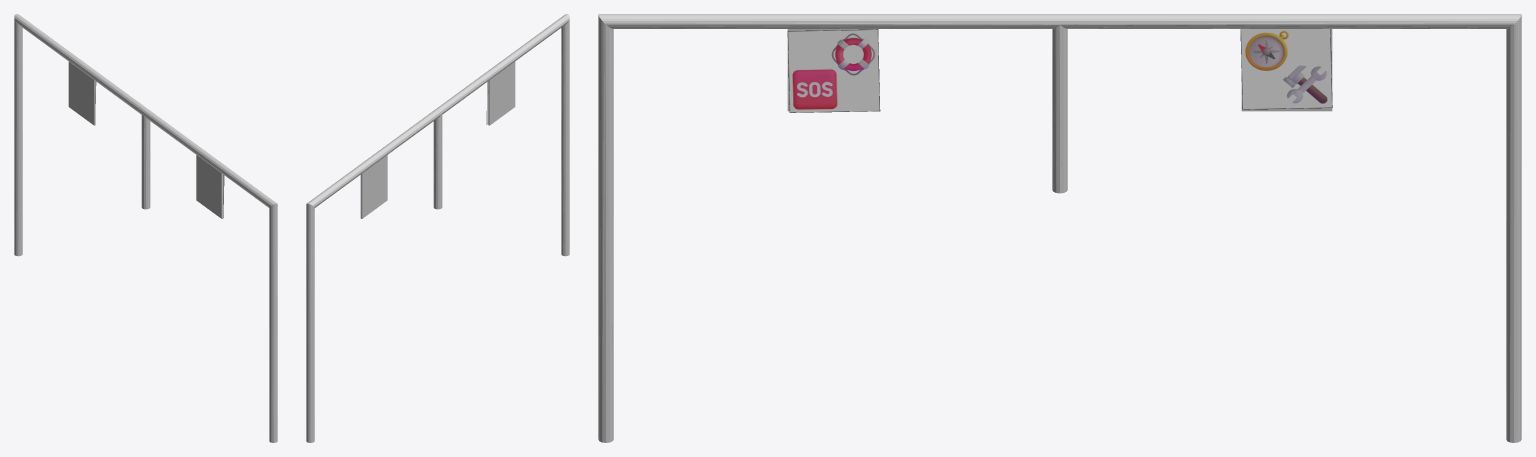
3 views of the same model, side by side, from view 1: azimuth 30°, elevation 25°; view 2: azimuth 150°, elevation 25°; view 3: azimuth 270°, elevation 25° (orthographic). The views are drawn at different scales.
Visible parts, largest first — view 1: base_link; view 2: base_link; view 3: base_link, Task1_SearchRescue_Fixed, Task1_SurveyRepair_Fixed.
Part boxes in pixels (x1,y1,x2,y2): base_link: [14, 14, 277, 442]; base_link: [306, 14, 569, 442]; base_link: [598, 14, 1521, 442]; Task1_SearchRescue_Fixed: [787, 29, 880, 112]; Task1_SurveyRepair_Fixed: [1240, 29, 1332, 109].
Bounding box in the file's own units: 0.0508 × 3.1 × 1.57.
Materials: 3 (2 with a texture image).
